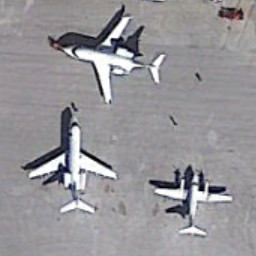Airplane: (45, 9, 172, 107), (23, 105, 127, 223), (144, 157, 243, 249)
